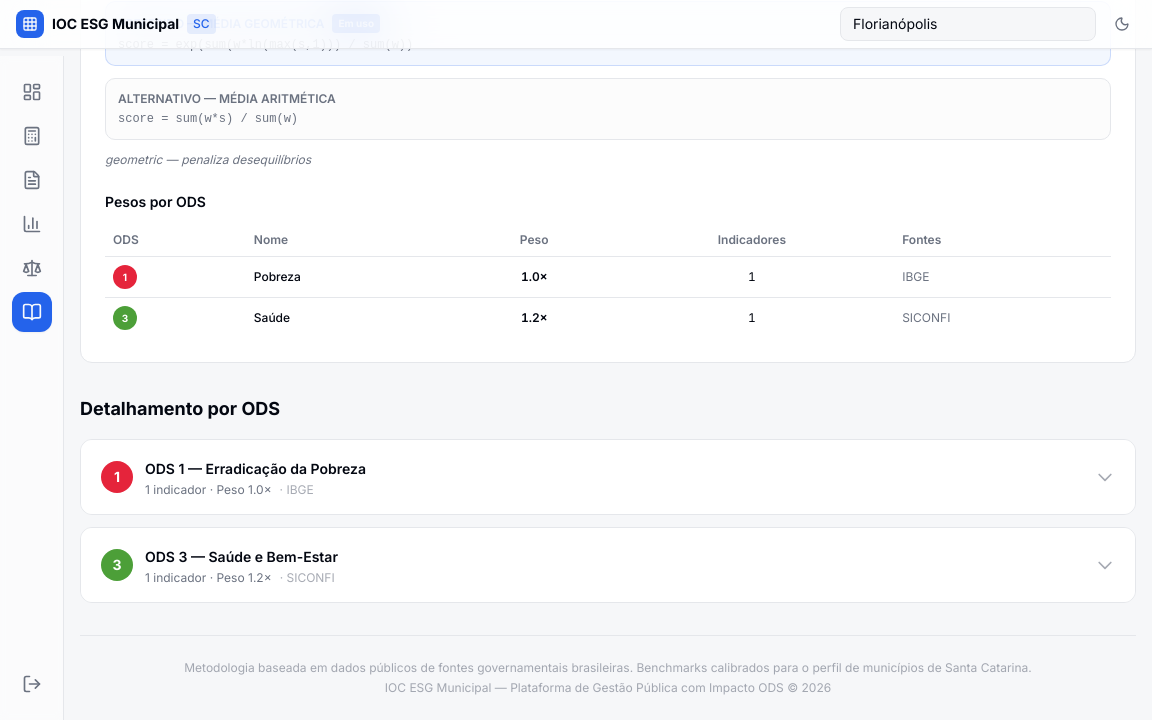
Test case: MethodologyPage › expande ODS ao clicar mostrando indicadores
This screenshot has width=1152, height=720.
(page scrolled)
Expected: the text "ODS 1 — Erradicação da Pobreza" is shown, left=145, top=460, right=366, bottom=477
Step 1. Click the button "ODS 1 — Erradicação da Pobreza" → [117, 477], box left=81, top=440, right=1135, bottom=514
(page scrolled)
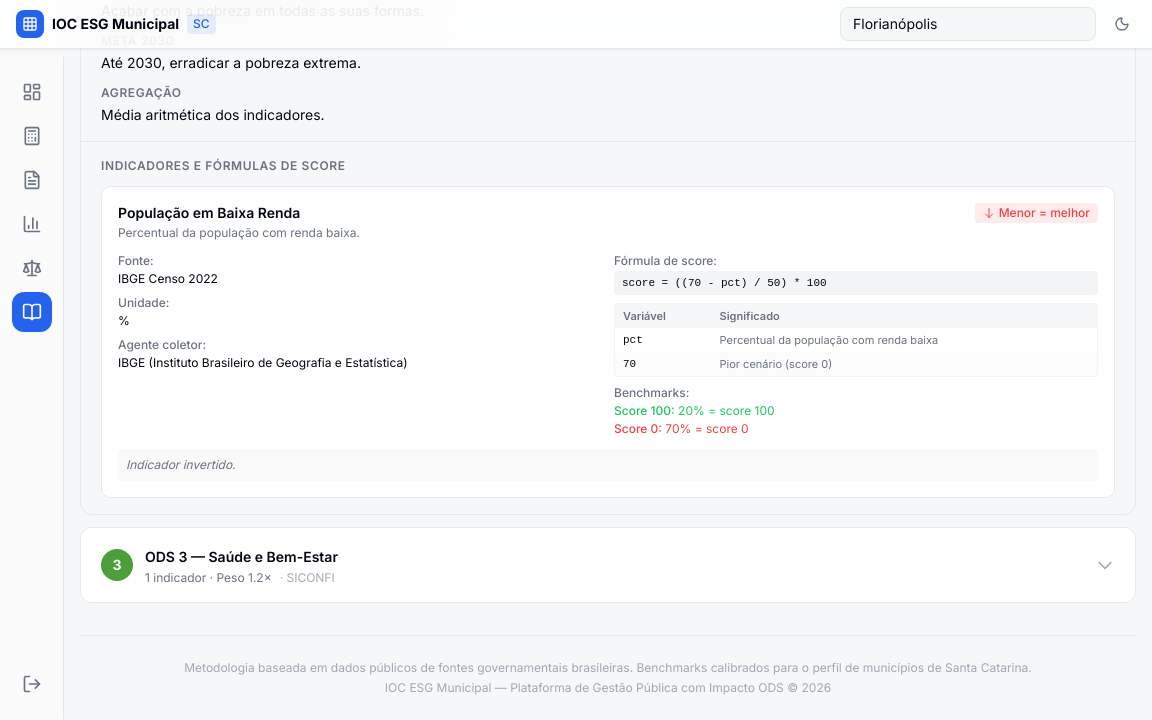
Now the heading "População em Baixa Renda" is shown, box left=118, top=204, right=300, bottom=221
Now the text "IBGE Censo 2022" is shown, box left=118, top=271, right=218, bottom=286
Now the text "Indicador invertido." is shown, box left=118, top=449, right=1098, bottom=481
